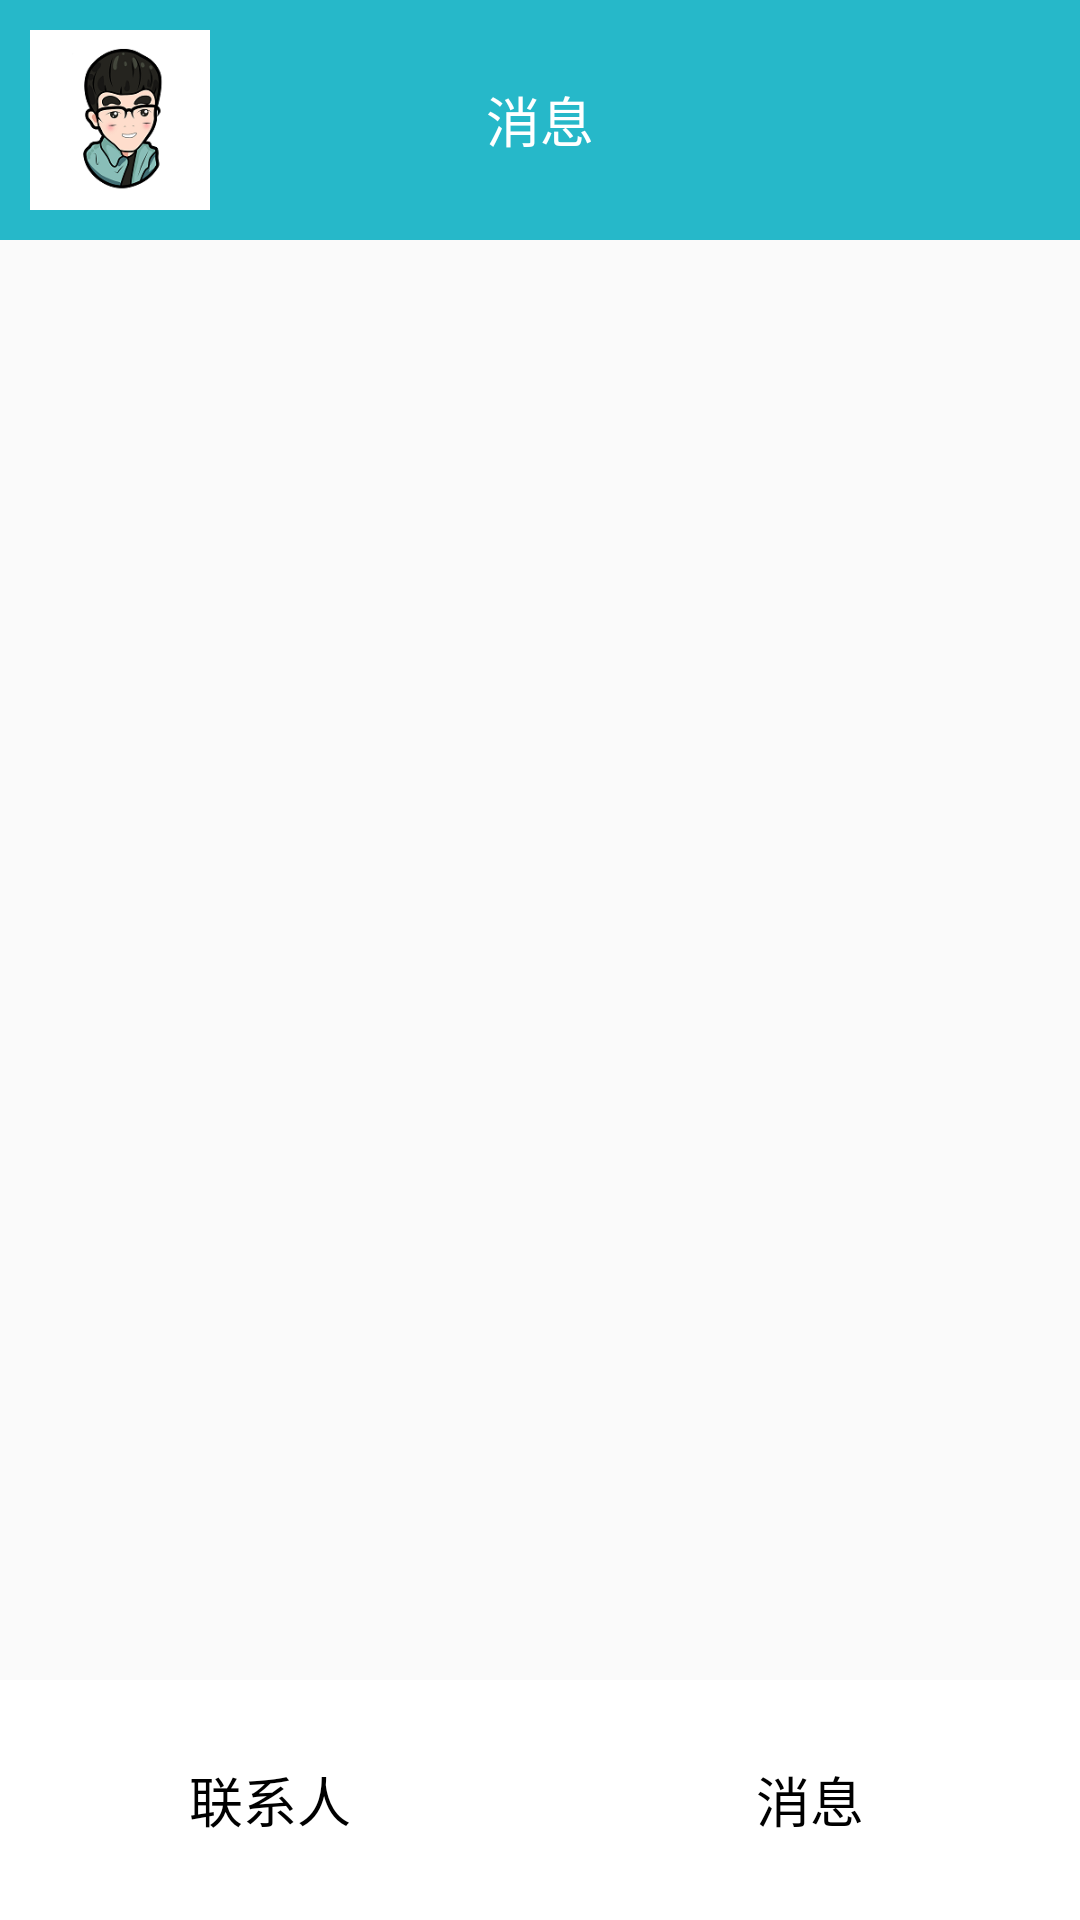

Where to tap for icons on this 1080 × 1920 app screen, as (x=x, y=y):
headm: (x=120, y=120)
